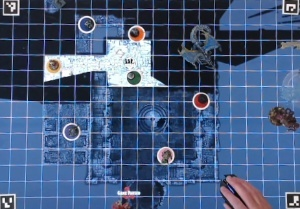blue: (75, 13, 96, 34)
green: (122, 70, 141, 88)
orange: (126, 25, 147, 43)
pink: (156, 145, 176, 166)
red: (189, 90, 210, 110)
violet: (61, 119, 83, 141)
yellow: (47, 56, 62, 72)
